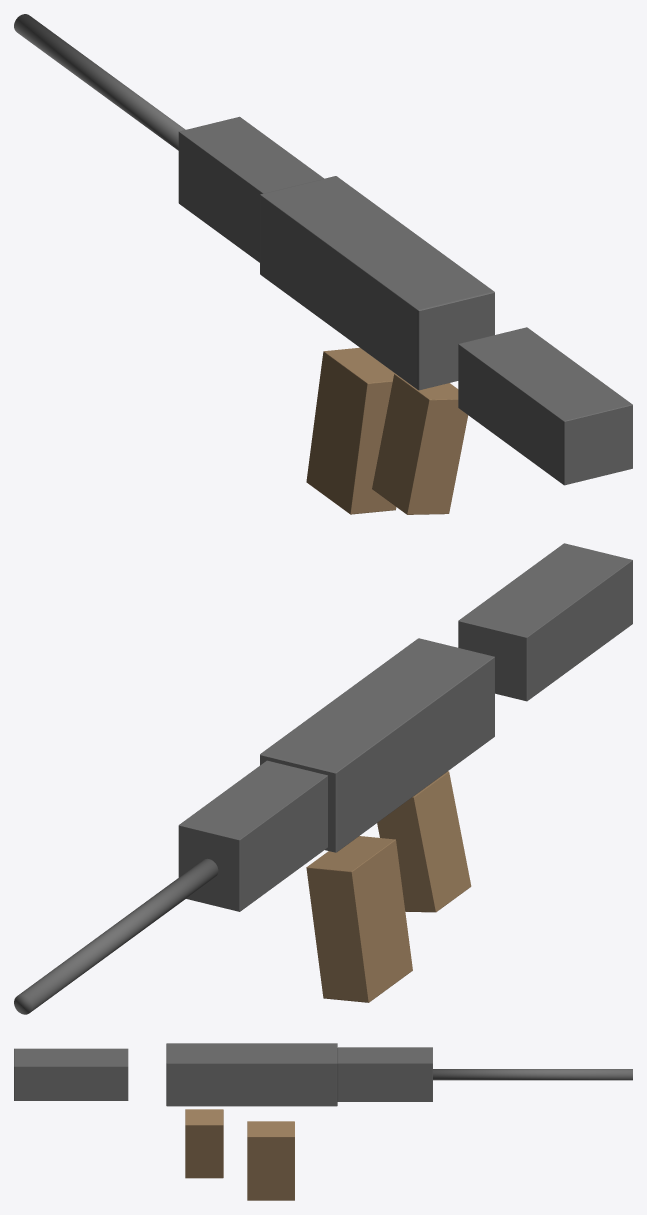
The picture shows the model from 3 angles, top to bottom: view 1: azimuth 30°, elevation 25°; view 2: azimuth 150°, elevation 25°; view 3: azimuth 270°, elevation 25°; orthographic projection. The views are drawn at different scales.
Parts seen in each view (by area): view 1: receiver, stock, handguard, mag, grip, barrel; view 2: receiver, stock, handguard, mag, grip, barrel; view 3: receiver, stock, handguard, mag, grip, barrel.
Boxes of the visible parts, <box> form: receiver: <box>260,176,494,390</box>; stock: <box>458,327,632,485</box>; handguard: <box>178,116,323,262</box>; mag: <box>306,347,396,514</box>; grip: <box>372,374,467,514</box>; barrel: <box>14,14,185,150</box>; receiver: <box>260,638,494,852</box>; stock: <box>458,543,632,701</box>; handguard: <box>178,760,327,911</box>; mag: <box>306,836,412,1002</box>; grip: <box>377,771,471,912</box>; barrel: <box>14,858,218,1014</box>; receiver: <box>166,1043,337,1106</box>; stock: <box>14,1048,128,1100</box>; handguard: <box>337,1047,432,1101</box>; mag: <box>247,1121,294,1200</box>; grip: <box>185,1109,223,1178</box>; barrel: <box>433,1069,632,1080</box>.
Size of the model in its own units: 0.05 by 0.1667 by 0.65.
